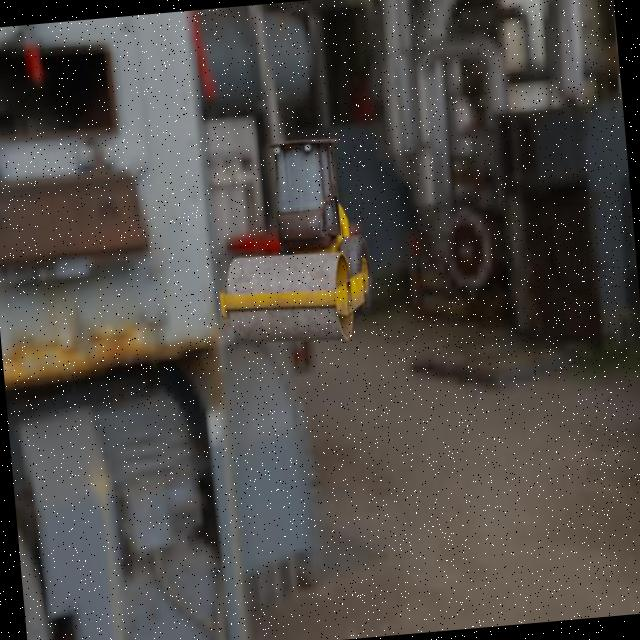Roller: (206, 132, 377, 350)
